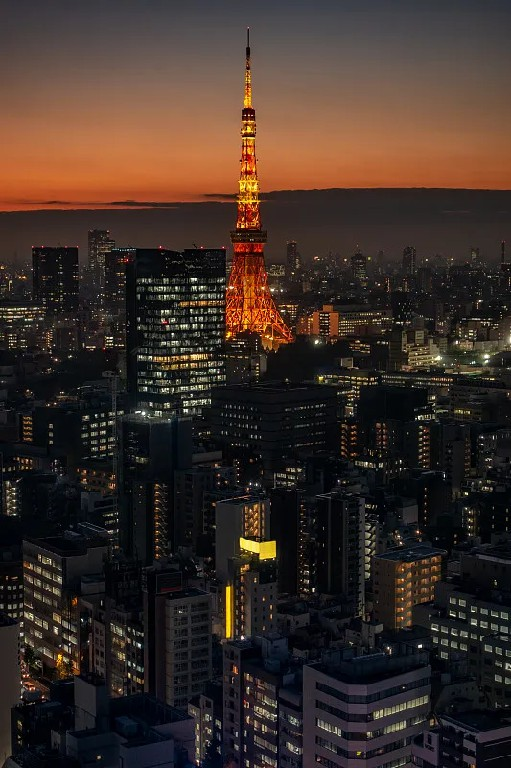Tokyo: (222, 21, 292, 351)
